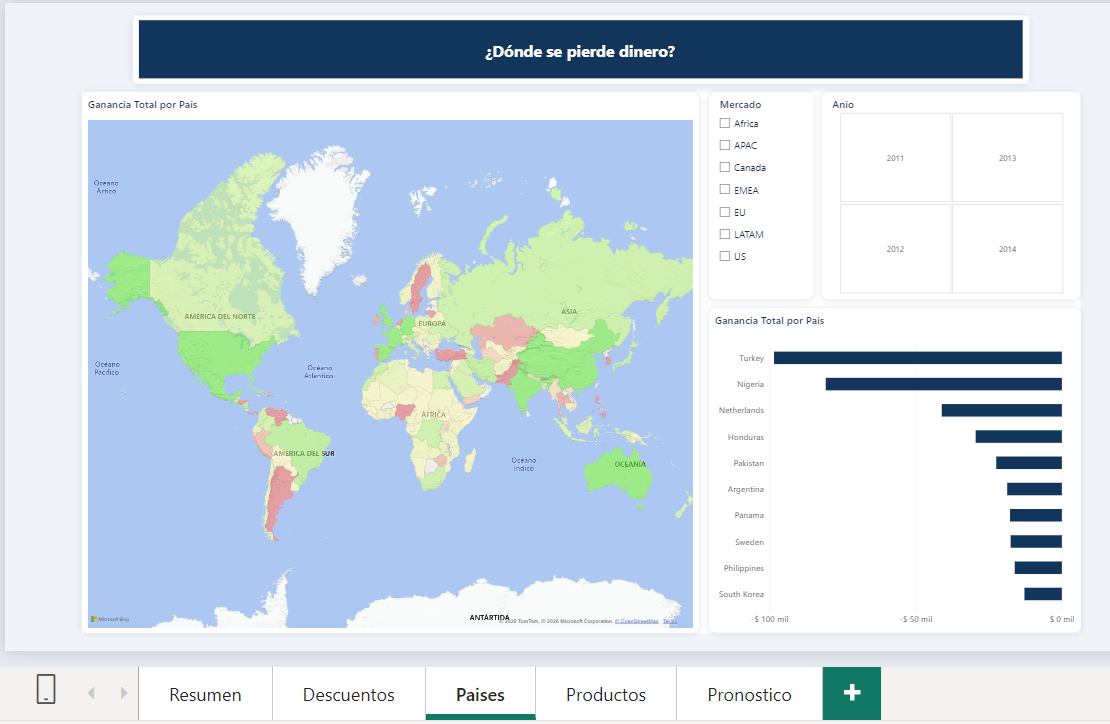

What the dashboard file says about the page in this screenshot:
{"tool":"powerbi","page":{"name":"Países","canvas":[1920,1080],"ordinal":2},"visuals":[{"type":"slicer","fields":{"Values":["Dim_Geografia.Mercado"]},"box":[1127.8,43.8,126.9,309.3],"z":0},{"type":"slicer","fields":{"Values":["Dim_Tiempo.Anio"]},"box":[1275.1,43.8,595.3,309.3],"z":1},{"type":"filledMap","fields":{"Category":["Dim_Geografia.Pais"]},"box":[46.7,43.3,1050,993.3],"z":2},{"type":"clusteredBarChart","fields":{"Category":["Dim_Geografia.Pais"],"Y":["Fact_Ventas.Ganancia Total"]},"box":[1127.8,383.7,742.6,653.6],"z":3}]}

Visuals, with their boxes on the page's 1920x1080 design canvas (x1, y1, x2, y2). These are canvas units, not pixel positions in the 1110x724 screenshot, which may show the page scaled, cropped or inside an application window:
slicer - Dim_Geografia.Mercado: x1=1128, y1=44, x2=1255, y2=353
slicer - Dim_Tiempo.Anio: x1=1275, y1=44, x2=1870, y2=353
filledMap - Dim_Geografia.Pais: x1=47, y1=43, x2=1097, y2=1037
clusteredBarChart - Dim_Geografia.Pais x Fact_Ventas.Ganancia Total: x1=1128, y1=384, x2=1870, y2=1037
